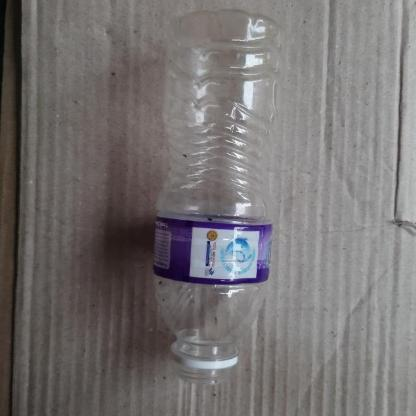Plastic Bottle: (156, 7, 284, 383)
